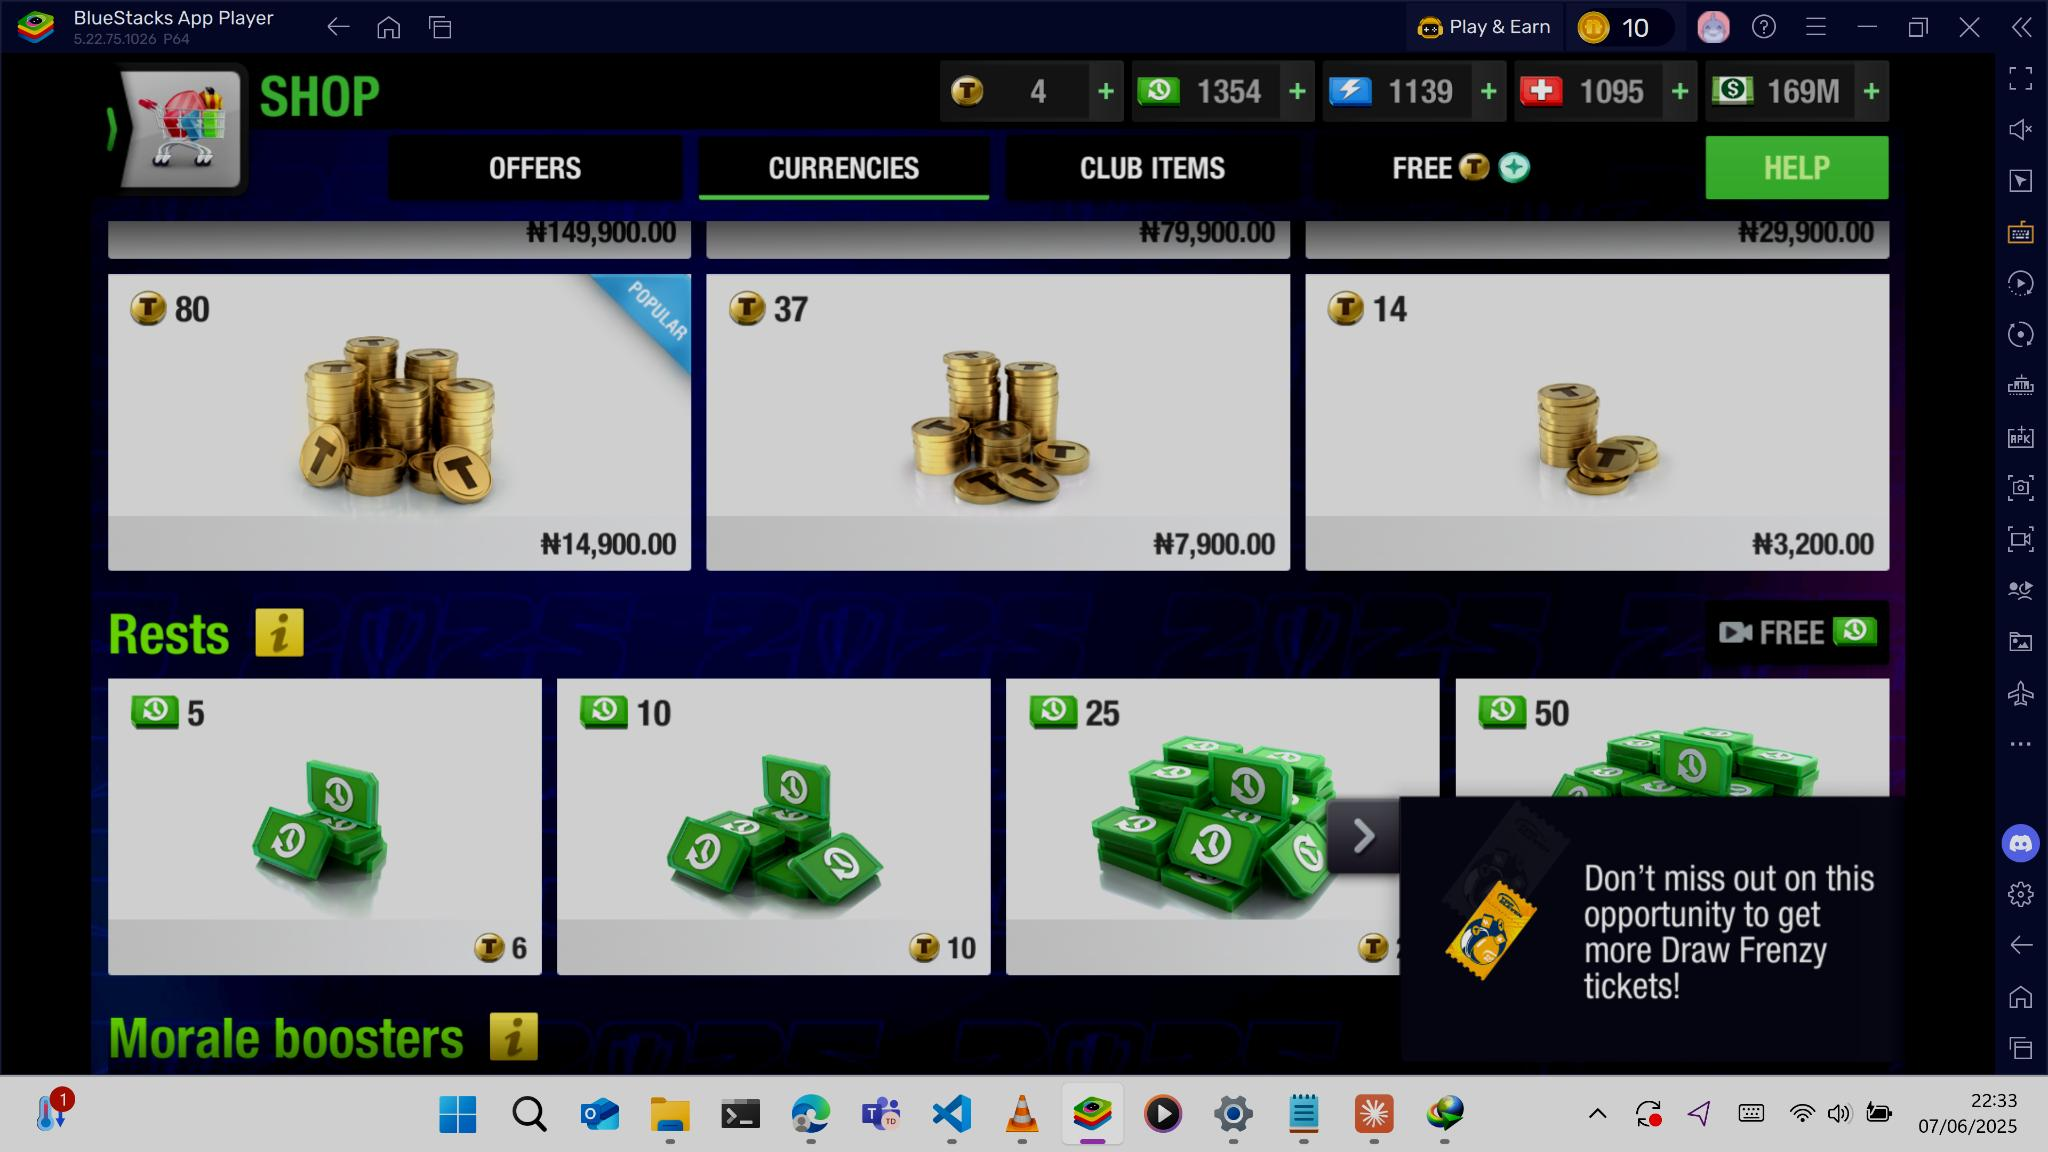cash_pack: (1712, 76, 1754, 105)
medic_pack: (1519, 76, 1563, 107)
morale_pack: (1328, 77, 1371, 107)
no_ads_green: (1712, 605, 1893, 670)
rest_pack: (1137, 76, 1180, 107)
windows_button: (439, 1096, 477, 1132)
